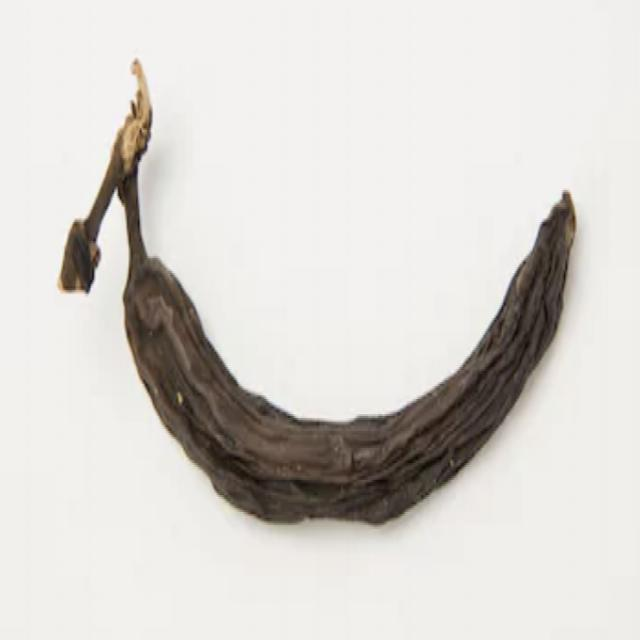rotten-banana: (87, 151, 578, 518)
